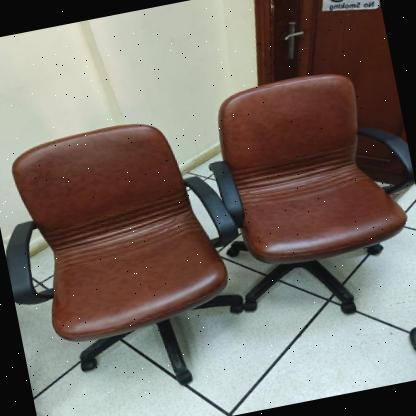chair: (0, 101, 250, 408), (193, 56, 416, 342)
